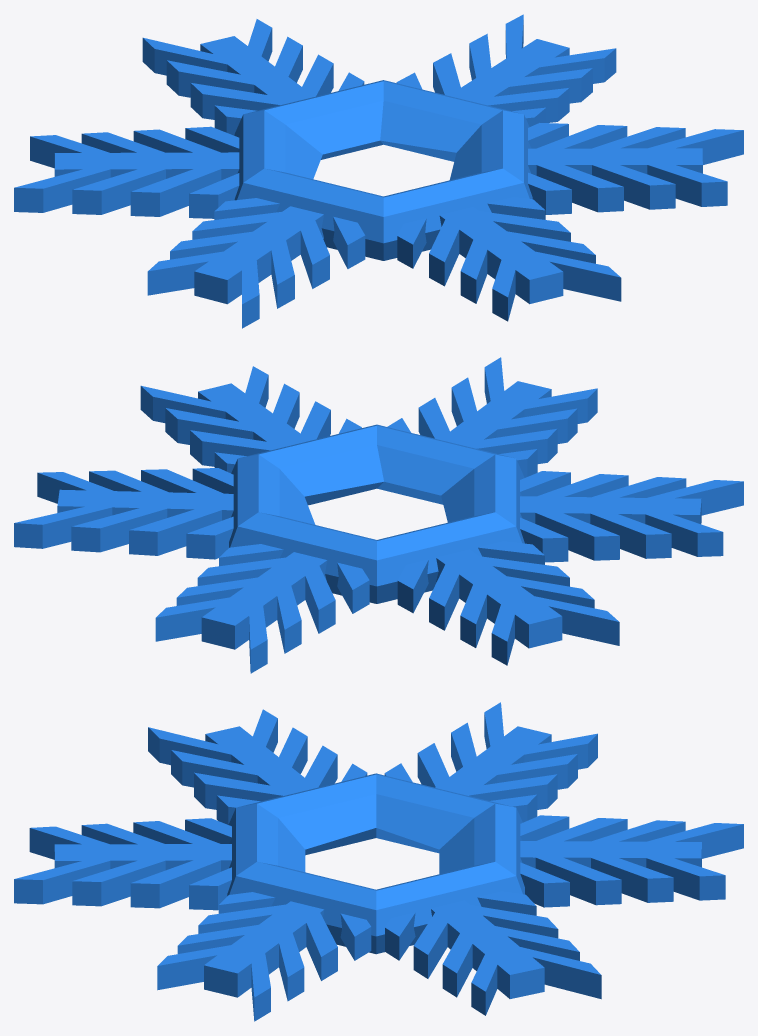
The model's file is Freeze.fbx.
3 views of the same model, one above another, from view 1: azimuth 30°, elevation 25°; view 2: azimuth 150°, elevation 25°; view 3: azimuth 270°, elevation 25° (orthographic).
Parts seen in each view (by area): view 1: Freeze; view 2: Freeze; view 3: Freeze.
Boxes of the visible parts, x1=… form: Freeze: x1=14, y1=14, x2=743, y2=328; Freeze: x1=14, y1=357, x2=743, y2=673; Freeze: x1=14, y1=702, x2=743, y2=1021.
Size of the model in its own units: 5.09 by 0.5 by 5.31.
